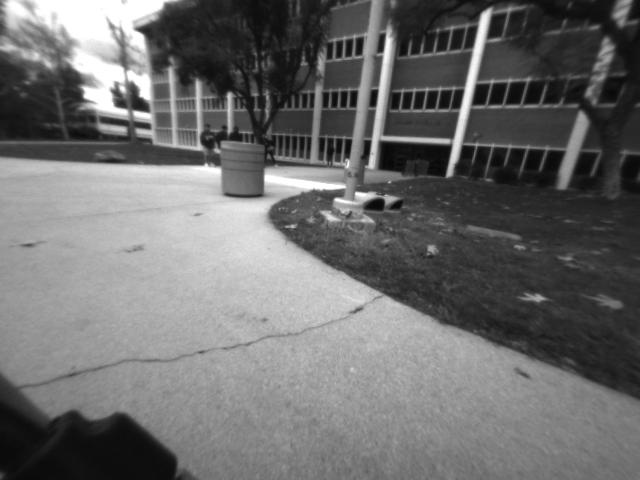trashcan: (215, 131, 272, 199)
